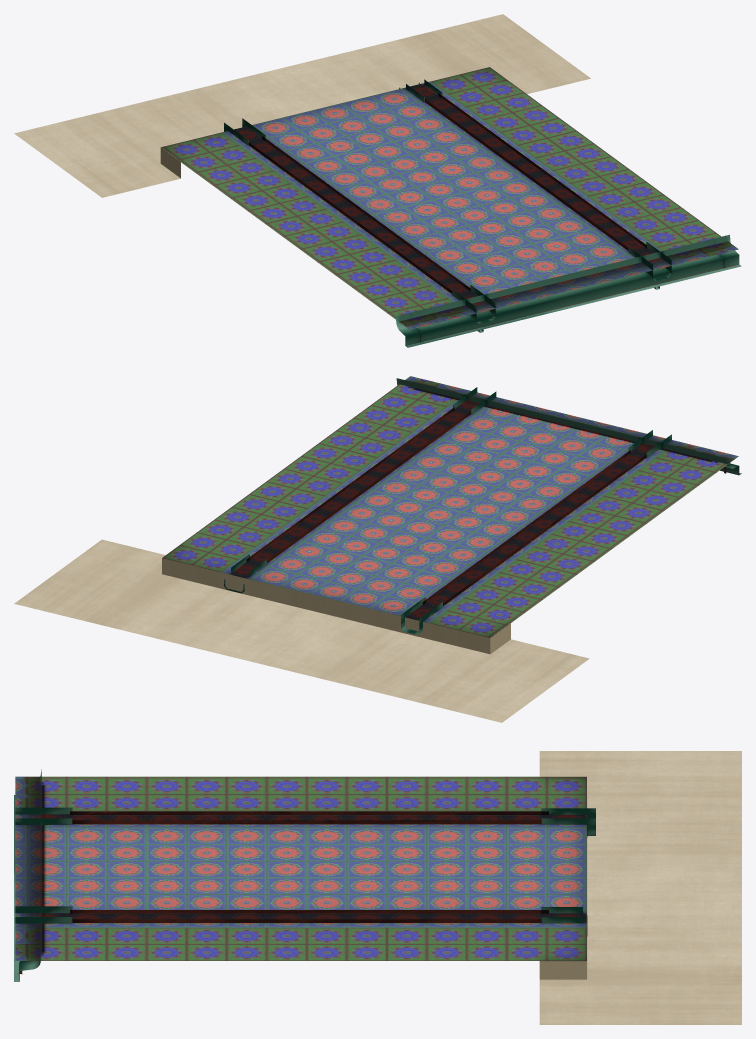
Rendered from TraditionalKoreanHouse_Celling.fbx.
3 views of the same model, one above another, from view 1: azimuth 30°, elevation 25°; view 2: azimuth 150°, elevation 25°; view 3: azimuth 270°, elevation 25° (orthographic). The views are drawn at different scales.
Parts seen in each view (by area): view 1: TraditionalKoreanHouse_Celling; view 2: TraditionalKoreanHouse_Celling; view 3: TraditionalKoreanHouse_Celling.
Part boxes in pixels (x1=…): TraditionalKoreanHouse_Celling: x1=14, y1=14, x2=741, y2=347; TraditionalKoreanHouse_Celling: x1=14, y1=376, x2=741, y2=722; TraditionalKoreanHouse_Celling: x1=14, y1=751, x2=741, y2=1024.
Size of the model in its own units: 743 by 44.34 by 834.
